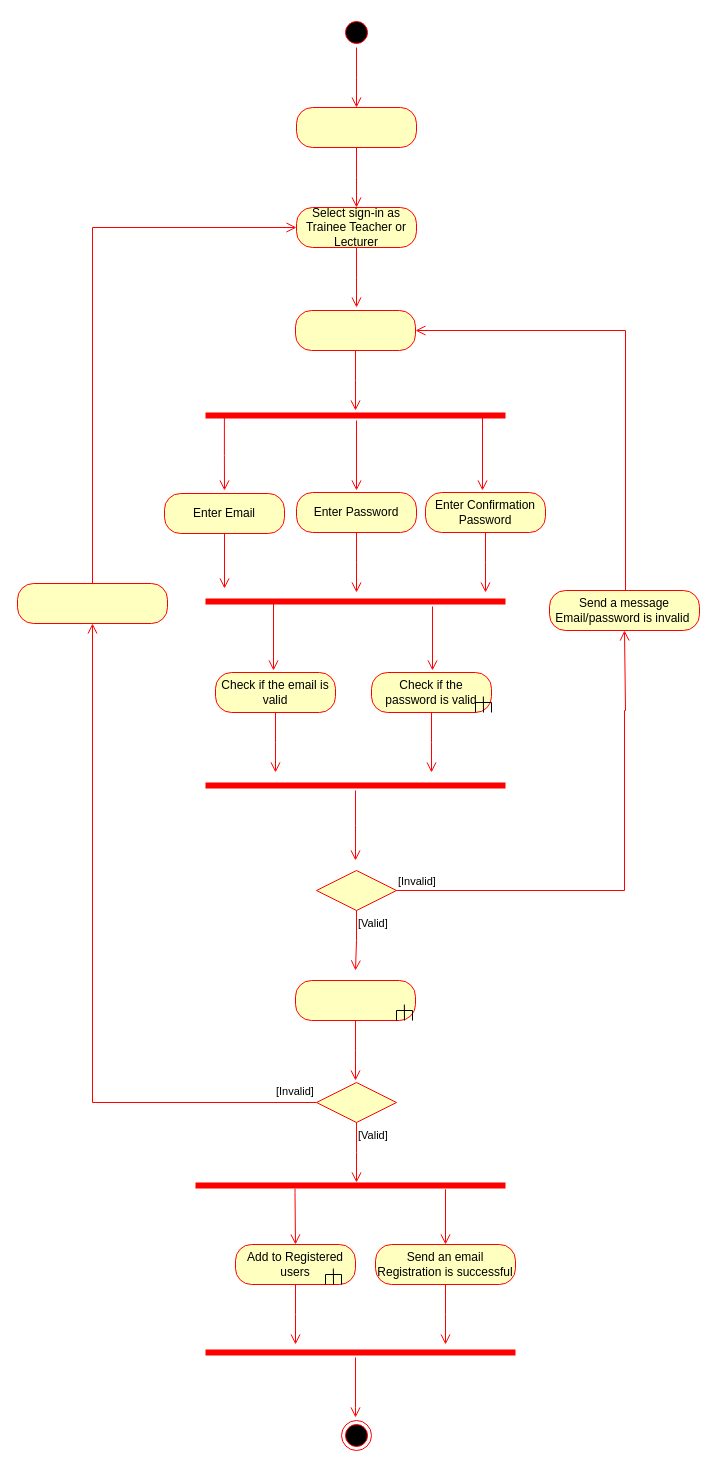
Image size: 717x1468. Some labels were removed from this diagram. The shapes that lost their labels are listed below. From the top down, each one's centre as x and y in pixels, then its label:
(356,127): Go to the online teacher trainer
(355,330): Fill the form
(92,603): Send an email form details are invalid
(355,1000): Check form details
